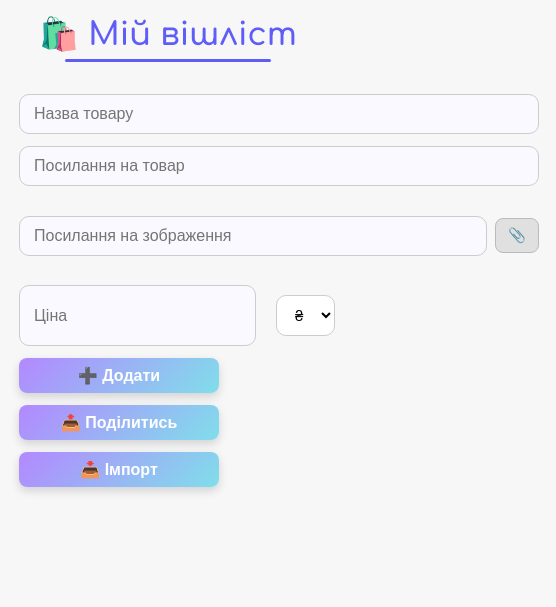
Test: редагує наявний елемент
Step 1. Type "Телефон" into the field with placeholder "Назва товару" → (279, 114), box [19, 94, 539, 134]
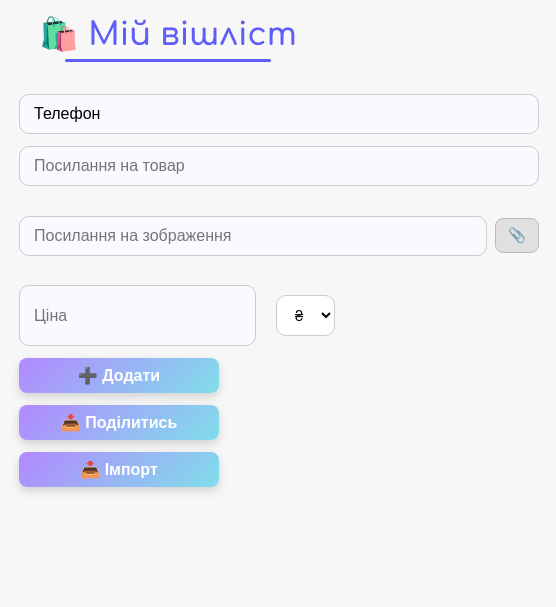
Step 2. Click the button "➕ Додати" → (119, 376), box [19, 358, 219, 393]
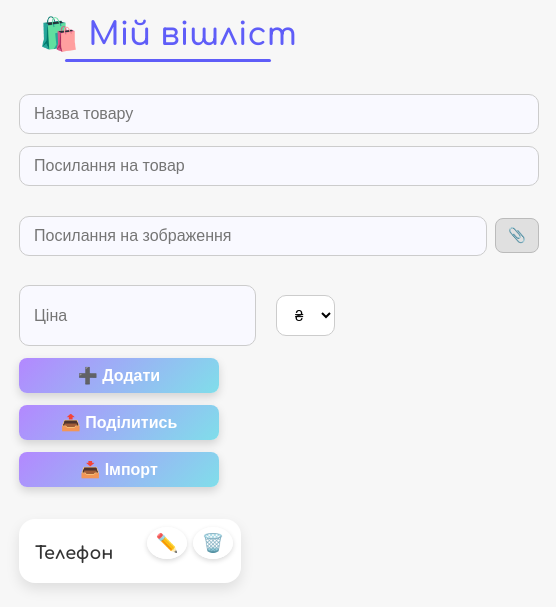
Step 3. Click the button "✏️" → (167, 543), box [147, 527, 187, 559]
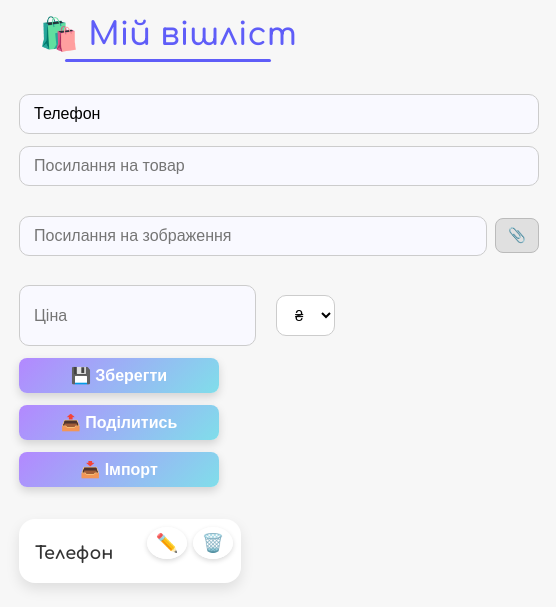
Step 4. Replace the text in the field with placeholder "Назва товару" with "Новий телефон" → (279, 114), box [19, 94, 539, 134]
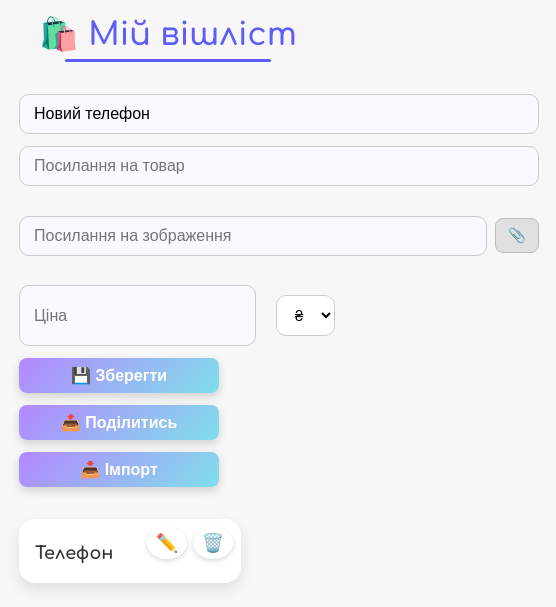
Step 5. Click the button "💾 Зберегти" → (119, 376), box [19, 358, 219, 393]
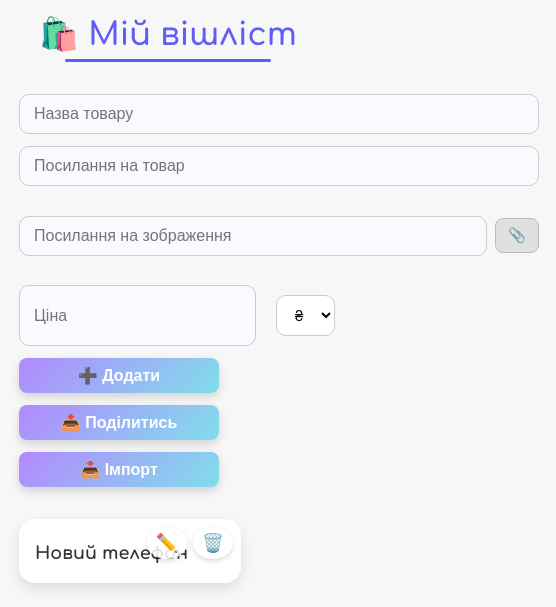
Expected: the heading "Новий телефон" is shown, [35, 543, 188, 563]
